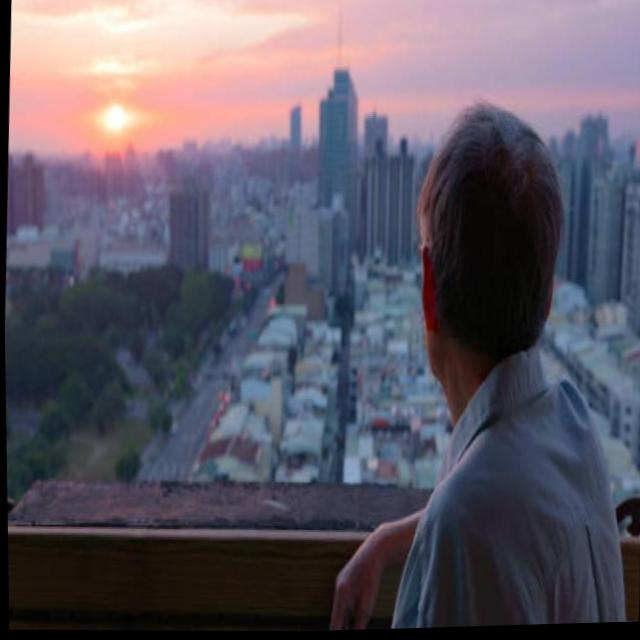no helmet: (398, 87, 567, 403)
